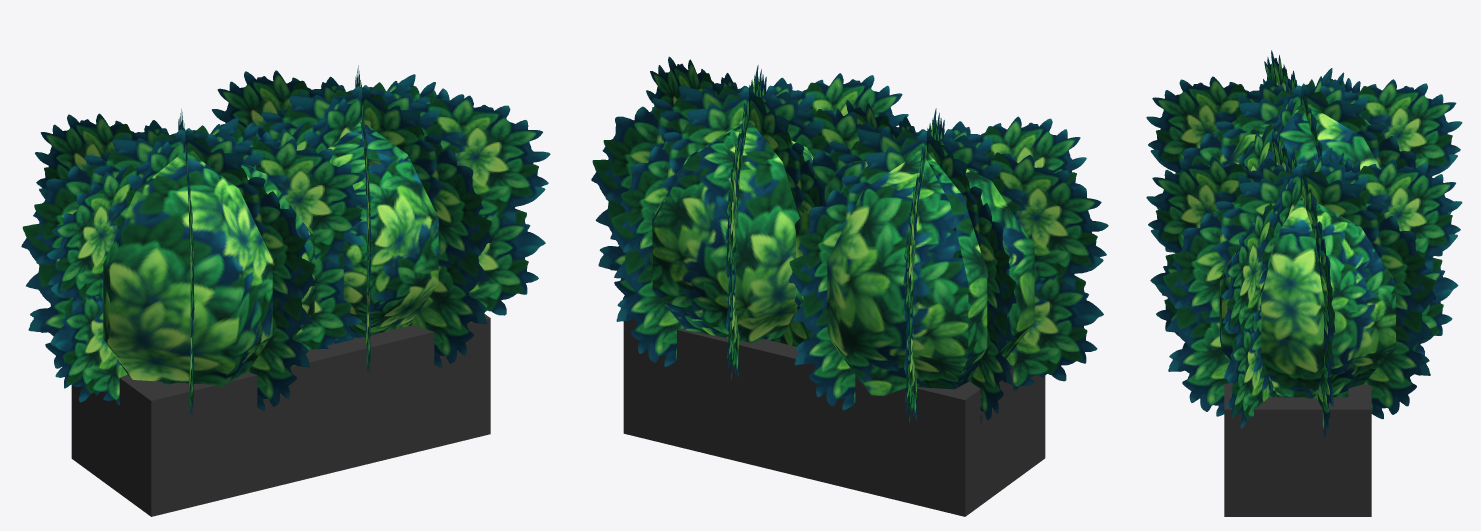
The model's file is SM_PROP_PLANT_pot_v5_01.FBX.
3 renders of one model, left to right at view 1: azimuth 30°, elevation 25°; view 2: azimuth 150°, elevation 25°; view 3: azimuth 270°, elevation 25°, orthographic. The views are drawn at different scales.
Visible parts, largest first — view 1: SM_PROP_PLANT_pot_v5_01; view 2: SM_PROP_PLANT_pot_v5_01; view 3: SM_PROP_PLANT_pot_v5_01.
Boxes of the visible parts, x1,y1,x2,y2 form: SM_PROP_PLANT_pot_v5_01: [21, 65, 550, 516]; SM_PROP_PLANT_pot_v5_01: [591, 56, 1108, 516]; SM_PROP_PLANT_pot_v5_01: [1146, 50, 1462, 516].
Bounding box in the file's own units: 126 × 78.1 × 83.07.
